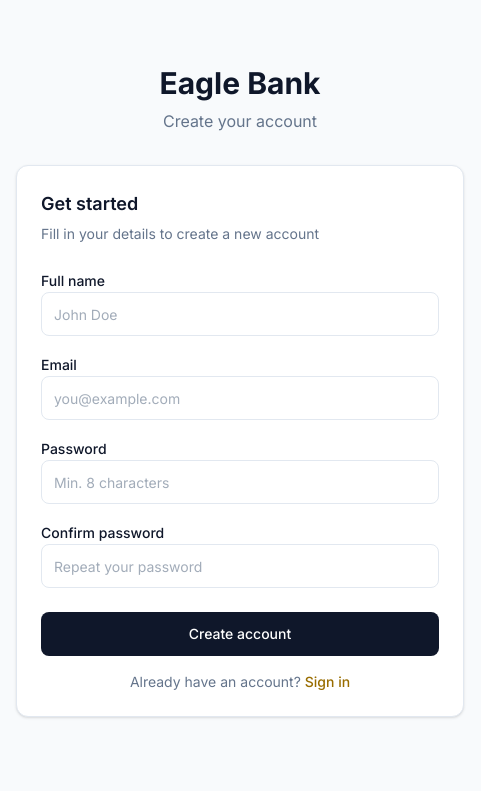
Scenario: RegisterPage › shows validation errors for empty fields
Click the button "Create account".
click(240, 634)  # box [41,612,439,656]
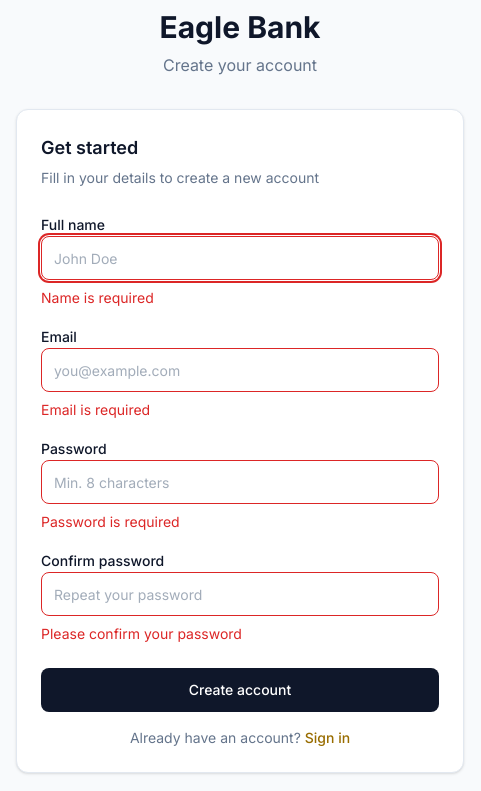
Expected: the text "Name is required" is shown, [41,289,154,306]
Expected: the text "Email is required" is shown, [41,401,150,418]
